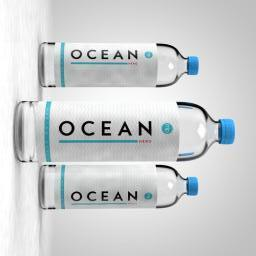plastic: (15, 42, 236, 210)
